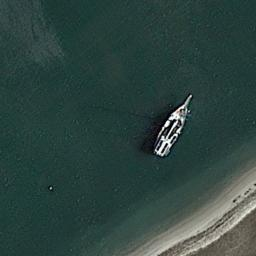boat: (151, 92, 194, 156)
